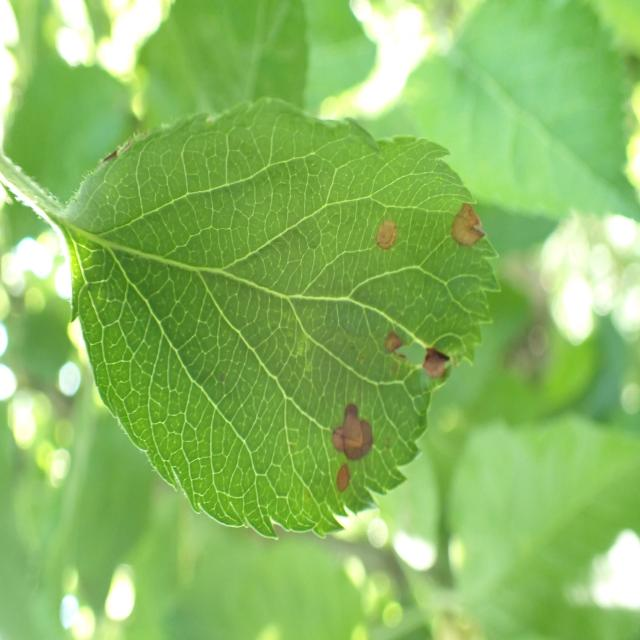Black Rot: (319, 392, 381, 510), (373, 316, 452, 405), (447, 168, 482, 274), (374, 207, 408, 267)
